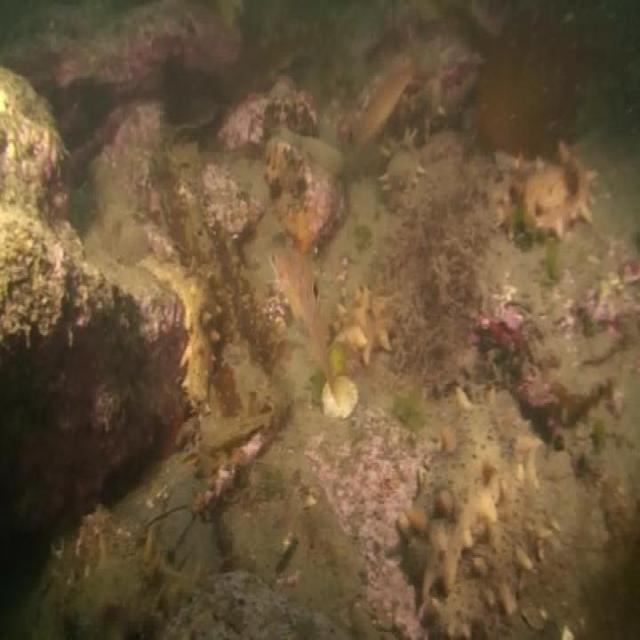holothurian: (396, 387, 534, 594), (419, 499, 557, 632), (147, 248, 221, 403), (506, 146, 594, 240), (334, 294, 398, 357), (379, 136, 424, 194), (405, 82, 448, 134)
scallop: (321, 379, 357, 419)
